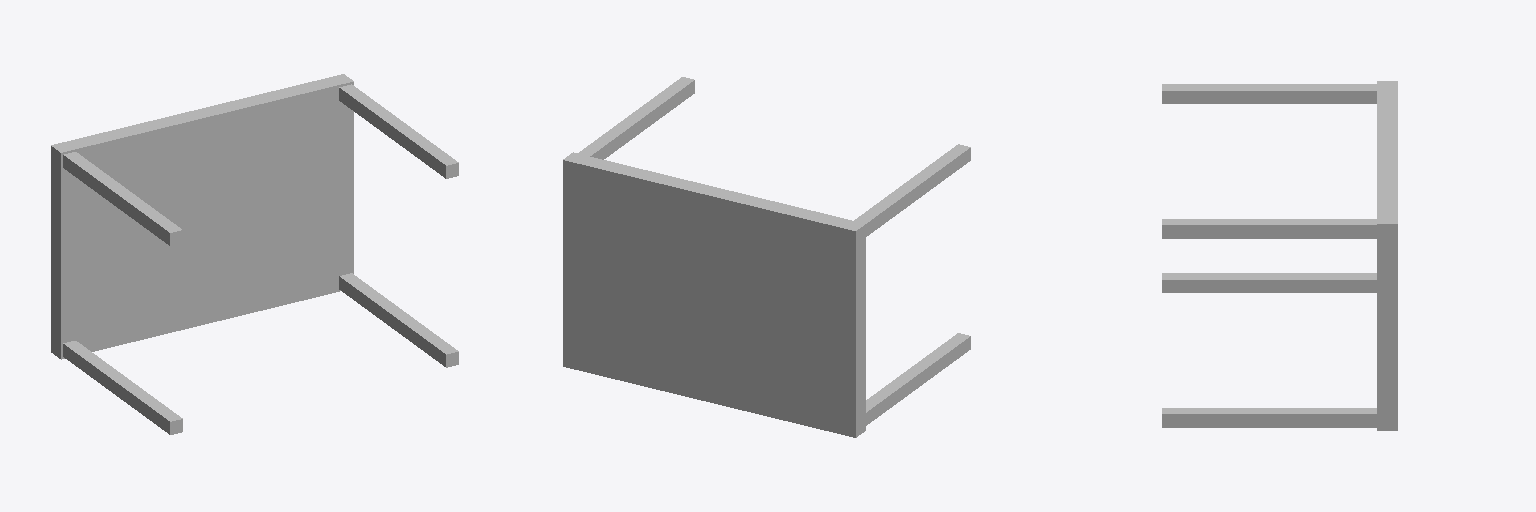
File: random_table28.obj
3 views of the same model, side by side, from view 1: azimuth 30°, elevation 25°; view 2: azimuth 150°, elevation 25°; view 3: azimuth 270°, elevation 25° (orthographic).
Parts seen in each view (by area): view 1: Table_Cube.335, TableLeg3_Cube.339, TableLeg0_Cube.336, TableLeg1_Cube.337, TableLeg2_Cube.338; view 2: Table_Cube.335, TableLeg1_Cube.337, TableLeg3_Cube.339, TableLeg0_Cube.336; view 3: Table_Cube.335, TableLeg0_Cube.336, TableLeg1_Cube.337, TableLeg2_Cube.338, TableLeg3_Cube.339.
Part boxes in pixels (x1,y1,x2,y2): Table_Cube.335: (51, 74, 353, 359); TableLeg3_Cube.339: (63, 341, 182, 434); TableLeg0_Cube.336: (339, 84, 458, 178); TableLeg1_Cube.337: (63, 152, 182, 245); TableLeg2_Cube.338: (339, 273, 458, 367); Table_Cube.335: (563, 152, 865, 437); TableLeg1_Cube.337: (854, 144, 970, 236); TableLeg3_Cube.339: (866, 333, 970, 425); TableLeg0_Cube.336: (578, 77, 694, 159); Table_Cube.335: (1377, 81, 1397, 430); TableLeg0_Cube.336: (1162, 219, 1376, 238); TableLeg1_Cube.337: (1162, 84, 1376, 103); TableLeg2_Cube.338: (1162, 408, 1376, 427); TableLeg3_Cube.339: (1162, 273, 1376, 292).
Bounding box in the file's own units: 6.14 × 4.14 × 4.27.